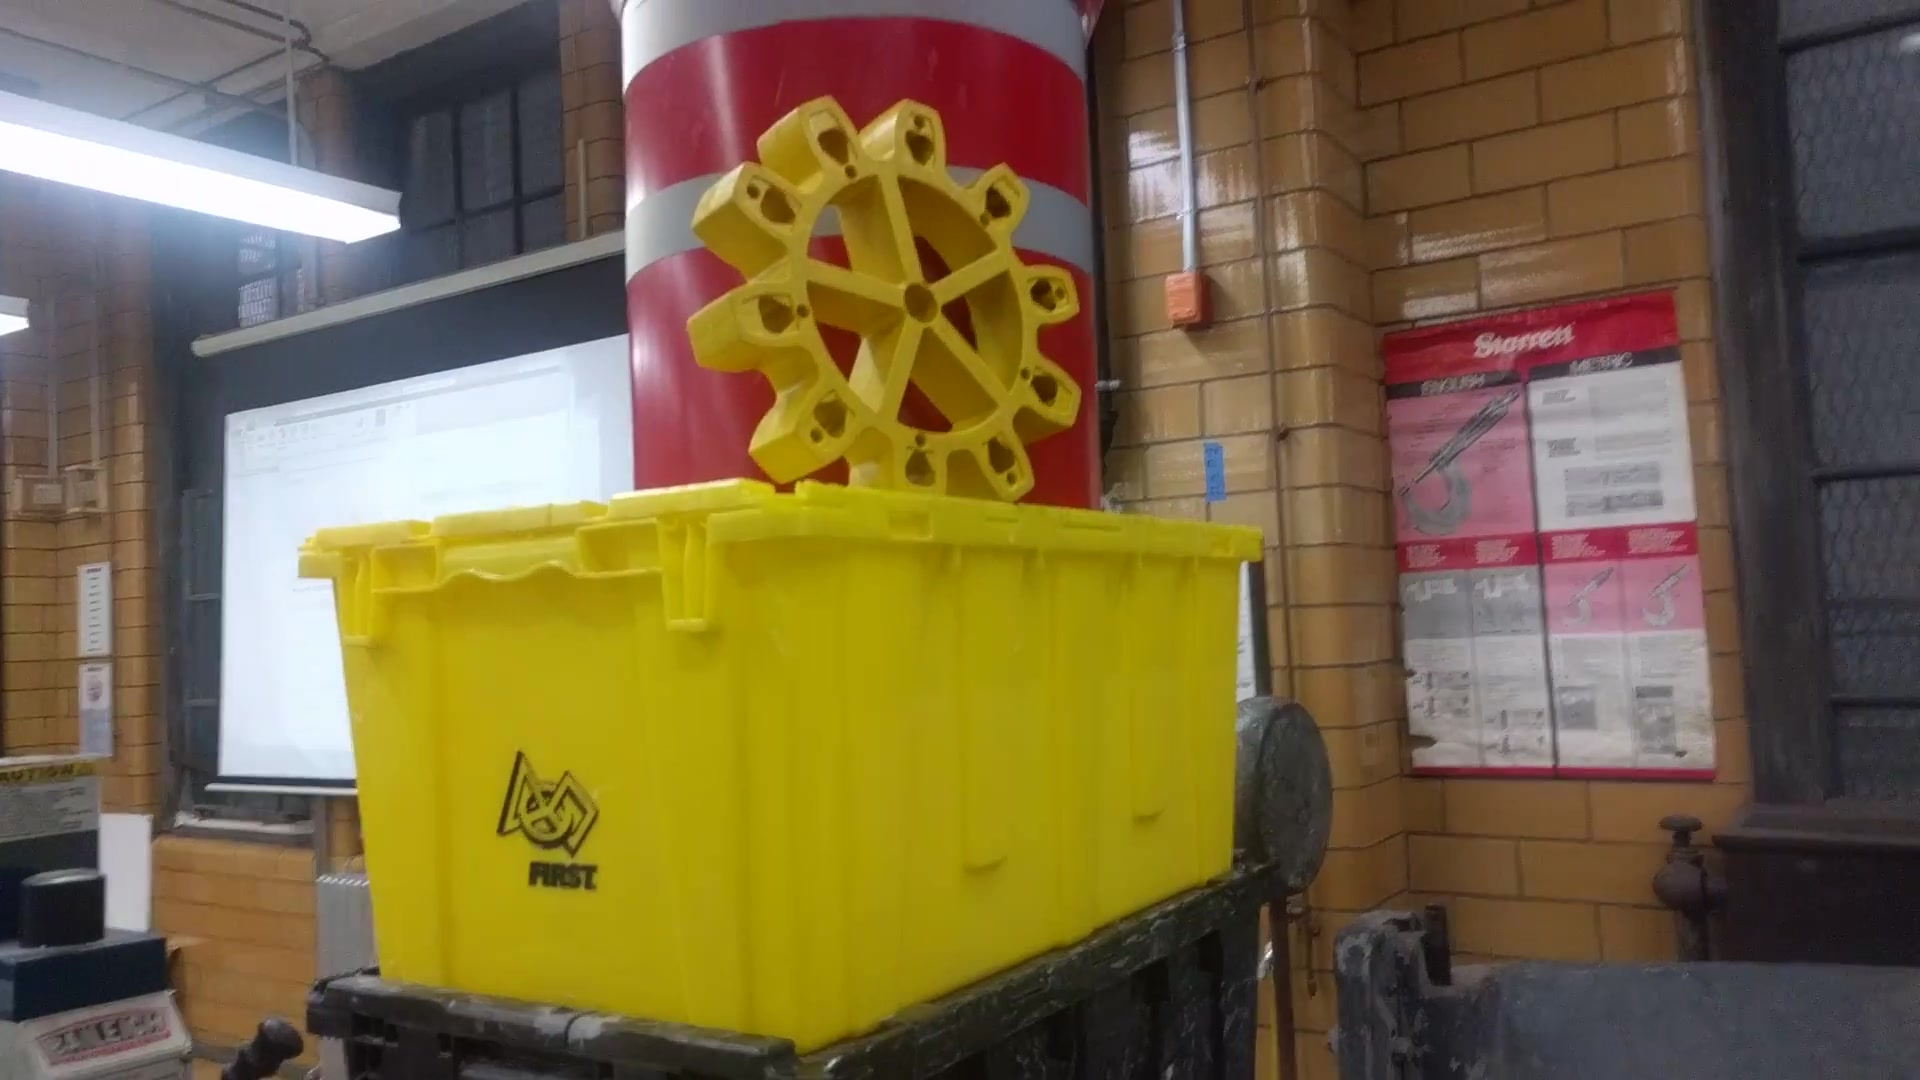gear: (692, 61, 1096, 527)
